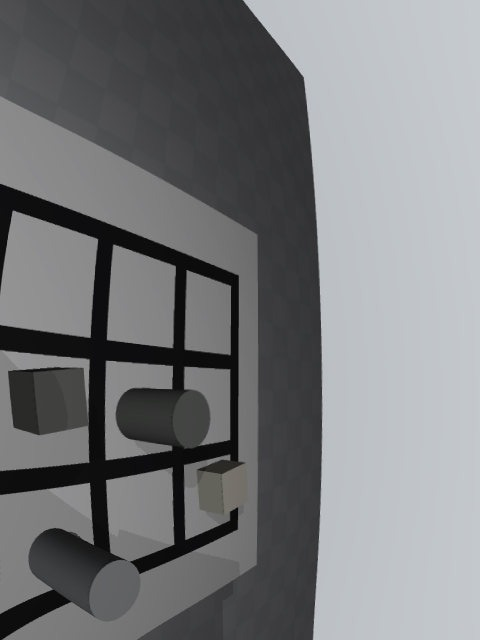can: (28, 528, 141, 622)
cube: (8, 367, 89, 435)
cylinder: (116, 388, 211, 449)
foam: (197, 460, 248, 515)
